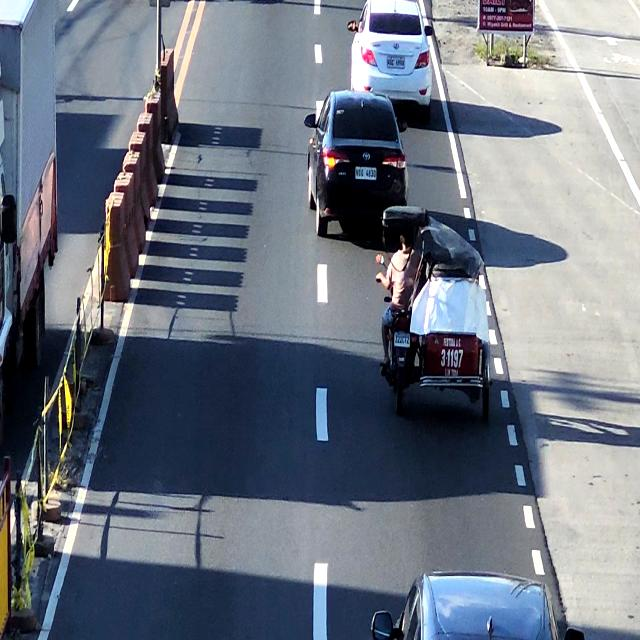Car: (373, 564, 557, 640), (307, 90, 409, 212), (344, 2, 436, 108)
License-Plate: (352, 165, 378, 183), (392, 329, 411, 352), (384, 53, 406, 71)
Tricycle: (375, 202, 493, 428)
